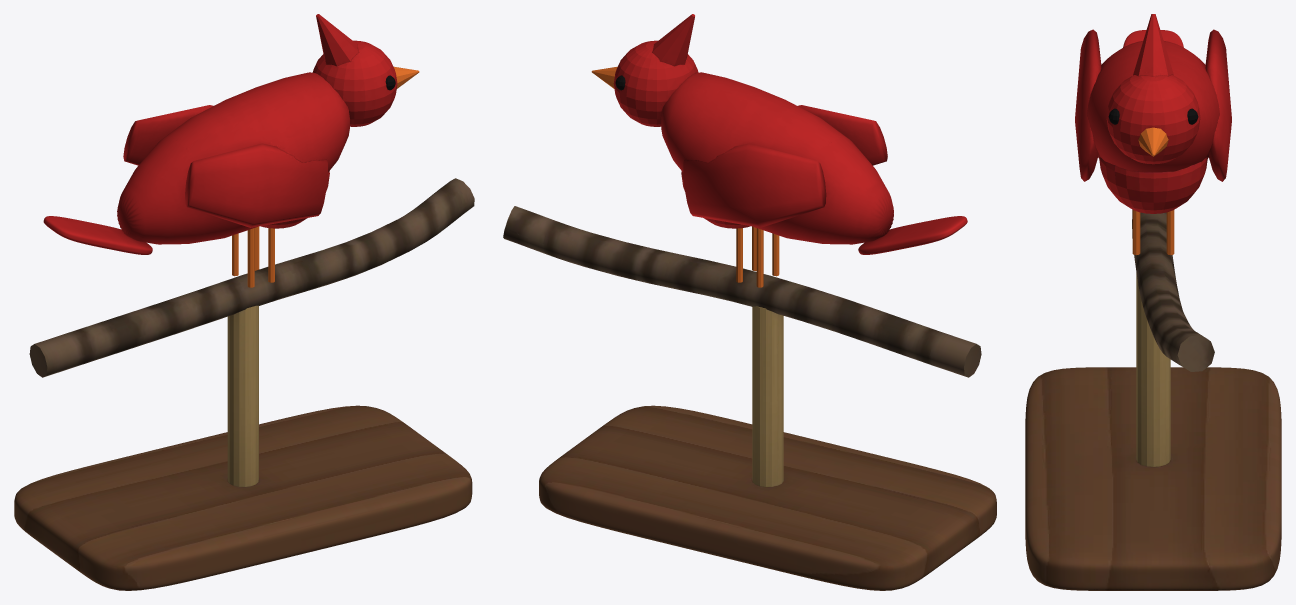
Rendered from cardinal-branch.glb.
3 renders of one model, left to right at view 1: azimuth 30°, elevation 25°; view 2: azimuth 150°, elevation 25°; view 3: azimuth 270°, elevation 25°, orthographic. The views are drawn at different scales.
Parts seen in each view (by area): view 1: wood_x, feathers_primary, branch_bark, brass, beak; view 2: wood_x, feathers_primary, branch_bark, brass, beak; view 3: wood_x, feathers_primary, branch_bark, brass, feathers_belly, beak.
Boxes of the visible parts, box(x1,y1,x2,y2) form: wood_x: box(14, 405, 472, 590); feathers_primary: box(43, 14, 397, 254); branch_bark: box(29, 178, 474, 377); brass: box(227, 305, 258, 486); beak: box(232, 66, 419, 287); wood_x: box(539, 405, 996, 590); feathers_primary: box(613, 14, 967, 254); branch_bark: box(503, 206, 981, 377); brass: box(752, 306, 783, 486); beak: box(591, 66, 779, 287); wood_x: box(1025, 367, 1281, 590); feathers_primary: box(1075, 14, 1231, 181); branch_bark: box(1132, 210, 1214, 371); brass: box(1136, 273, 1170, 466); feathers_belly: box(1099, 157, 1207, 213); beak: box(1132, 127, 1174, 255).
Size of the model in its own units: 0.2637 by 0.2708 by 0.12.
7 materials, 5 textured.
